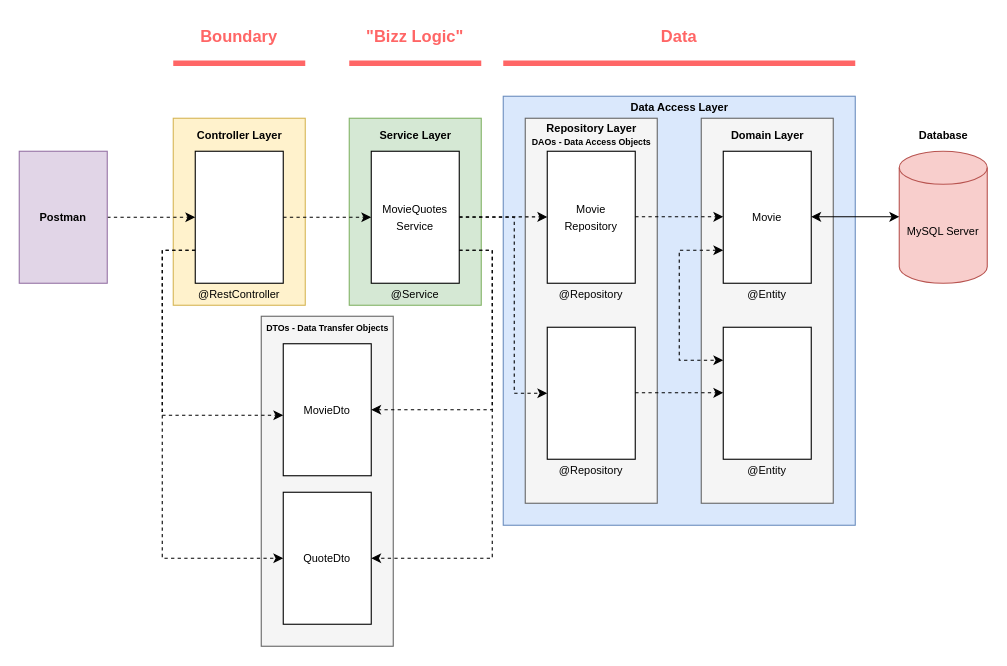
The diagram is 1007 pixels wide and 666 high, and some of its shapes have lost their labels. The centre of each missing label's shape, as x and y in pixels:
MovieQuotes Controller: (x=238, y=216)
Quote: (x=766, y=392)
Quote Repository: (x=590, y=392)
